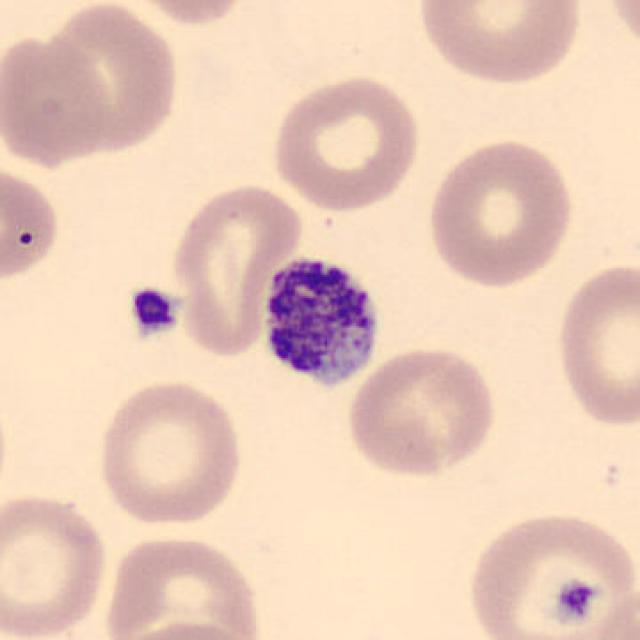Platelets: (249, 245, 387, 399), (126, 284, 182, 340), (548, 575, 604, 629)
RBC: (165, 178, 306, 360), (421, 134, 578, 291), (93, 374, 247, 530), (35, 0, 184, 160), (466, 506, 640, 640), (267, 70, 425, 214), (343, 342, 501, 481), (99, 530, 266, 640), (0, 486, 112, 640), (0, 28, 114, 169), (411, 0, 588, 88), (550, 257, 638, 432), (0, 159, 64, 289), (117, 0, 256, 28), (106, 617, 260, 640), (601, 0, 640, 63)
